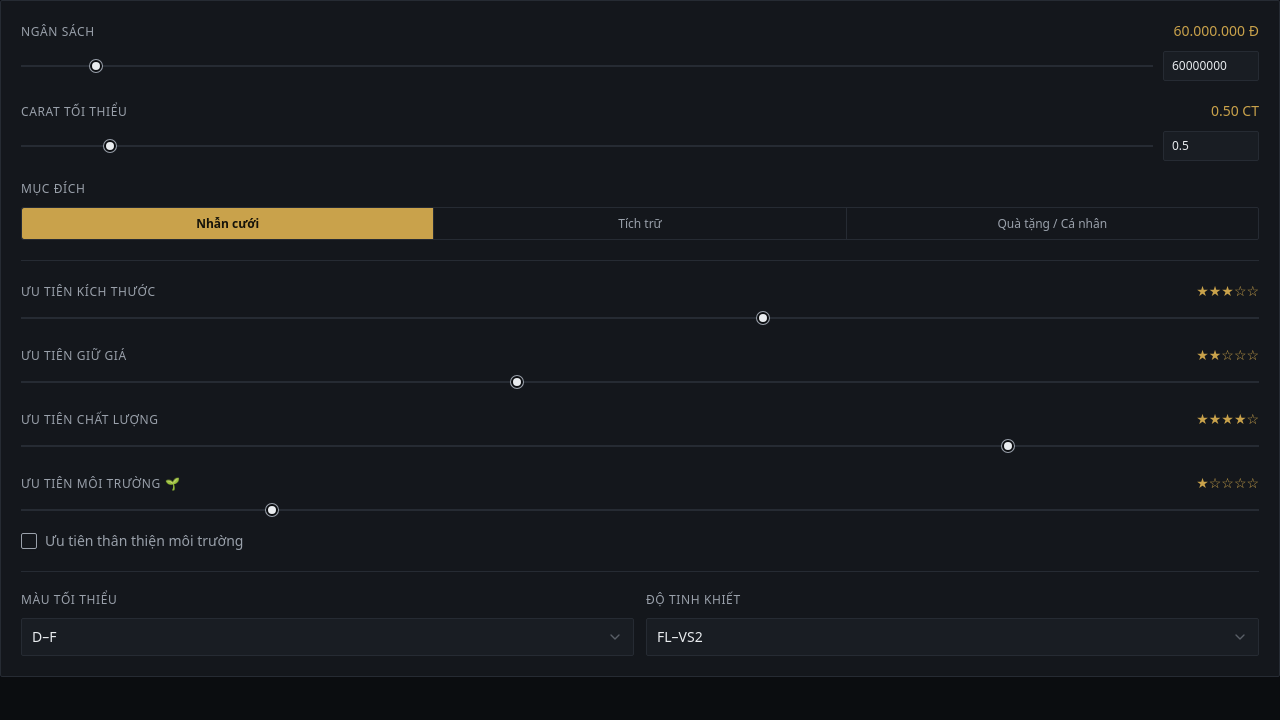
CriteriaSidebar › typing a budget in the number box updates the store and the gold value label
The image size is (1280, 720).
Replace the text in the number field named "Nhập ngân sách" with "25000000" at (1211, 66), box x1=1163 y1=51 x2=1259 y2=81
Then press Enter
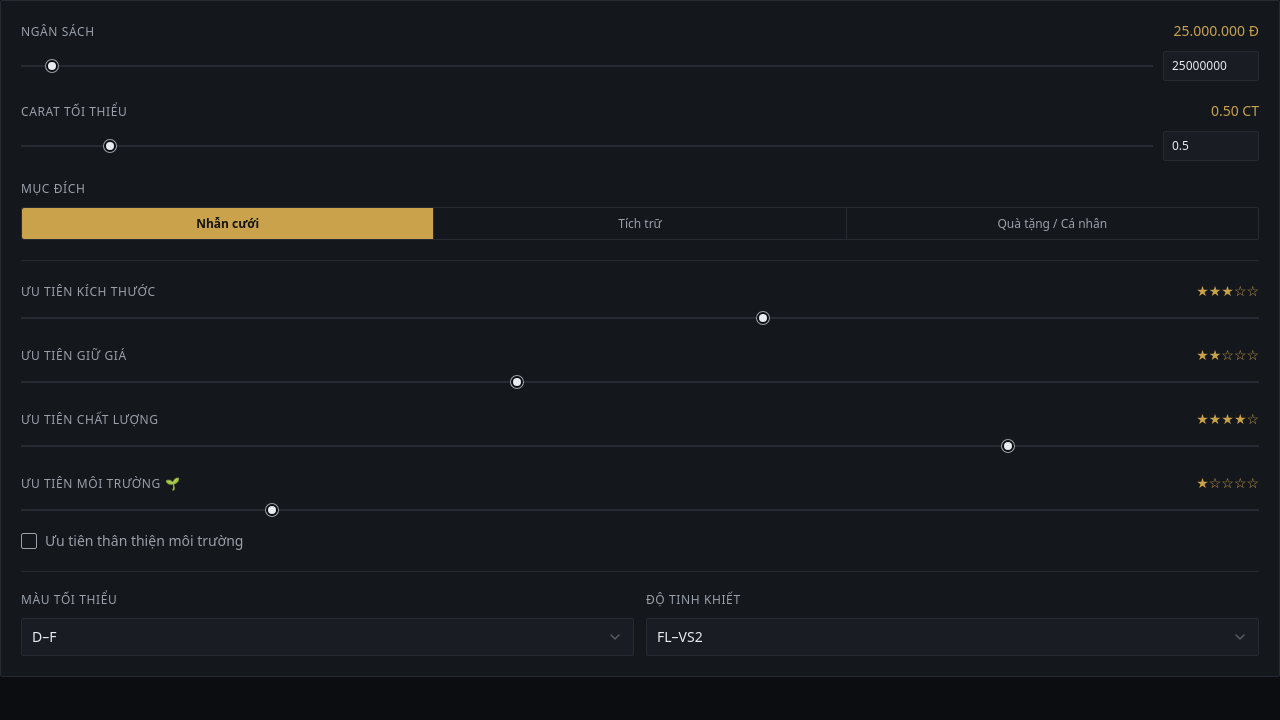
Result: the text "25.000.000 đ" is shown at x1=1174 y1=21 x2=1259 y2=41
